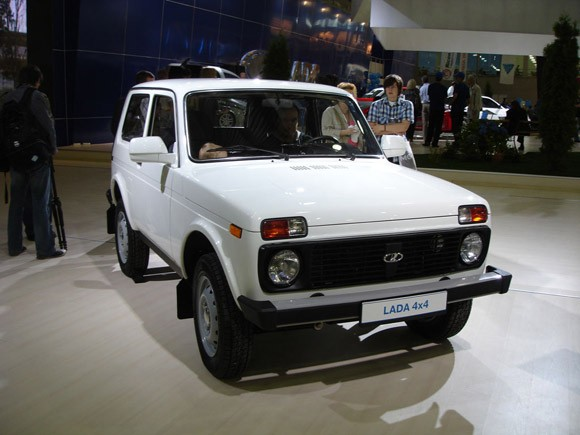Carro: (102, 75, 518, 386)
